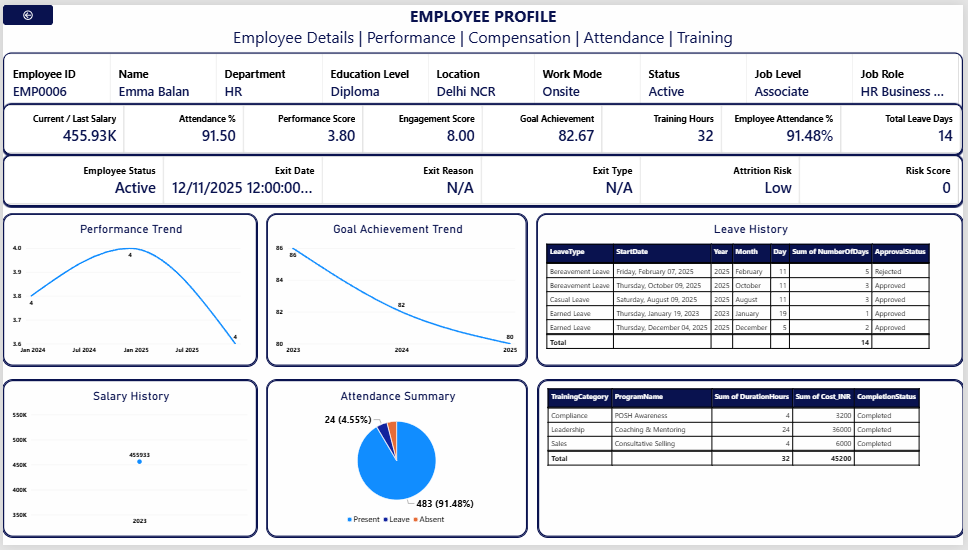

What the dashboard file says about the page in this screenshot:
{"tool":"powerbi","page":{"name":"Employee Profile","canvas":[1920,1080],"ordinal":9},"visuals":[{"type":"tableEx","fields":{"Values":["FactTraining.TrainingCategory","FactTraining.ProgramName","Sum(FactTraining.DurationHours)","Sum(FactTraining.Cost_INR)","FactTraining.CompletionStatus"]},"box":[1068.8,750.8,851.2,313.7],"z":0},{"type":"lineChart","title":"Goal Achievement Trend","fields":{"Category":["FactPerformance.ReviewYear"],"Y":["Measures (2).Average Goal Achievement"]},"box":[528,418,520,304],"z":5000},{"type":"lineChart","title":"Performance Trend","fields":{"Category":["FactPerformance.ReviewDate"],"Y":["Measures (2).Average Performance Score"]},"box":[0,418,508,304],"z":6000},{"type":"lineChart","title":"Salary History","fields":{"Category":["DimEmployee.HireDate.Variation.Date Hierarchy.Year"],"Y":["Measures (2).Average Salary"]},"box":[0,750.8,508.2,313.7],"z":7000},{"type":"tableEx","title":"Leave History","fields":{"Values":["FactLeave.LeaveType","FactLeave.StartDate","FactLeave.EndDate.Variation.Date Hierarchy.Year","FactLeave.EndDate.Variation.Date Hierarchy.Month","FactLeave.EndDate.Variation.Date Hierarchy.Day","Sum(FactLeave.NumberOfDays)","FactLeave.ApprovalStatus"]},"box":[1068,418,852,304],"z":8000},{"type":"pieChart","title":"Attendance Summary","fields":{"Category":["Attendance Status.Attendance Status"],"Y":["Measures (2).Attendance Days"]},"box":[527.1,750.8,520.8,313.7],"z":9000},{"type":"cardVisual","fields":{"Data":["Min(DimEmployee.EmployeeID)","Min(DimEmployee.FullName)","Min(DimEmployee.Department)","Min(DimEmployee.EducationLevel)","Min(DimEmployee.Location)","Min(DimEmployee.WorkMode)","Min(DimEmployee.EmploymentStatus)","Min(DimEmployee.JobLevel)","Min(DimEmployee.JobRole)"]},"box":[0,94,1920,124],"z":9500},{"type":"cardVisual","fields":{"Data":["Measures (2).Average Salary","Measures (2).Attendance %","Measures (2).Average Performance Score","Measures (2).Average Engagement Score","Measures (2).Average Goal Achievement","Measures (2).Total Training Hours","Measures (2).Employee Attendance %","Measures (2).Employee Total Leave Days"]},"box":[0,198,1920,102],"z":9750},{"type":"cardVisual","fields":{"Data":["Measures (2).Selected Employee Status","Measures (2).Employee Exit Date","Measures (2).Employee Exit Reason","Measures (2).Employee Exit Type","Measures (2).Selected Attrition Risk","Measures (2).Selected Attrition Risk Score"]},"box":[0,300,1920,102],"z":10000},{"type":"textbox","box":[0,0,1920,142.5],"z":10250},{"type":"actionButton","box":[0,0,100,40],"z":10500}]}

Visuals, with their boxes in screenshot pixels (x1, y1, x2, y2), scaled from the page's 1920x1080 canvas onto the 968x550 screenshot:
tableEx - FactTraining.TrainingCategory x FactTraining.ProgramName: 539,382,967,542
"Goal Achievement Trend" lineChart: 266,213,528,368
"Performance Trend" lineChart: 0,213,256,368
"Salary History" lineChart: 0,382,256,542
"Leave History" tableEx: 538,213,967,368
"Attendance Summary" pieChart: 266,382,528,542
cardVisual - Min(DimEmployee.EmployeeID) x Min(DimEmployee.FullName): 0,48,967,111
cardVisual - Measures (2).Average Salary x Measures (2).Attendance %: 0,101,967,153
cardVisual - Measures (2).Selected Employee Status x Measures (2).Employee Exit Date: 0,153,967,205
textbox: 0,0,967,73
actionButton: 0,0,50,20
